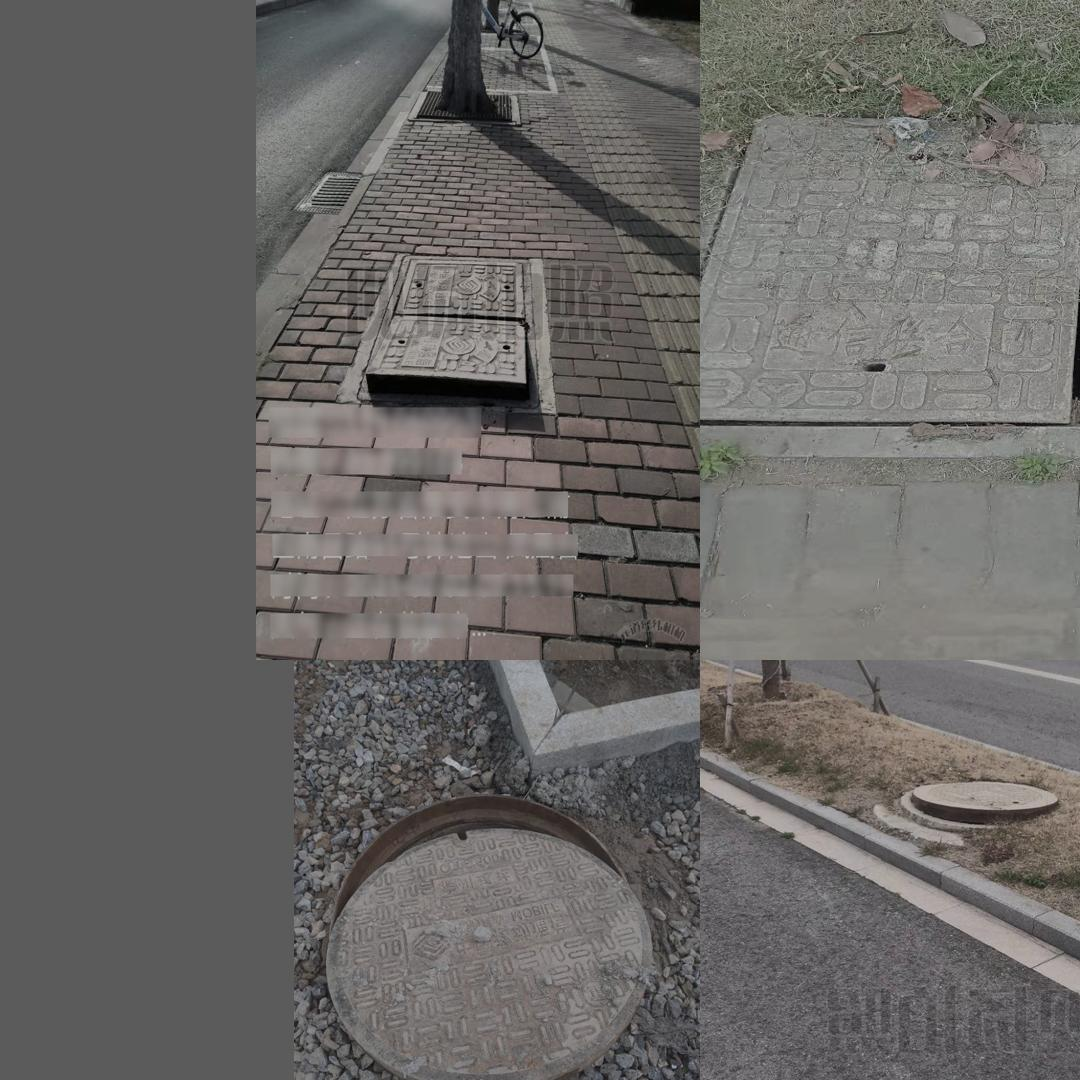uncovered: (713, 62, 1080, 452), (321, 795, 646, 1080), (357, 257, 542, 413), (902, 779, 1060, 829)
